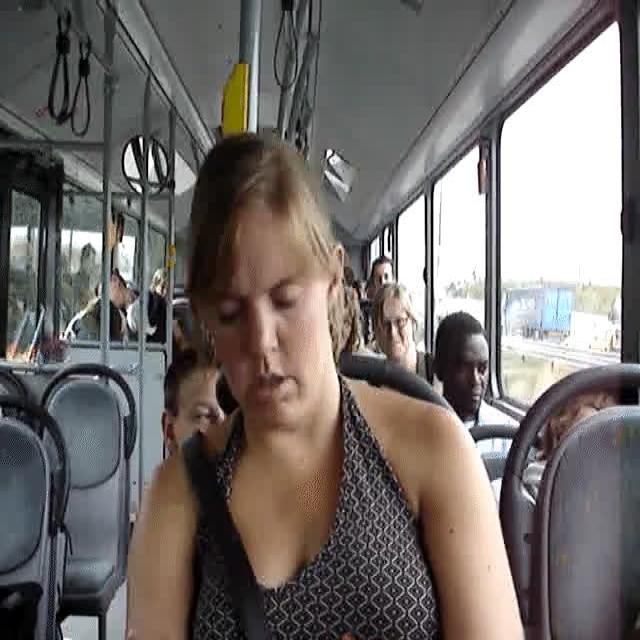no-seatbelt: (186, 131, 355, 430)
